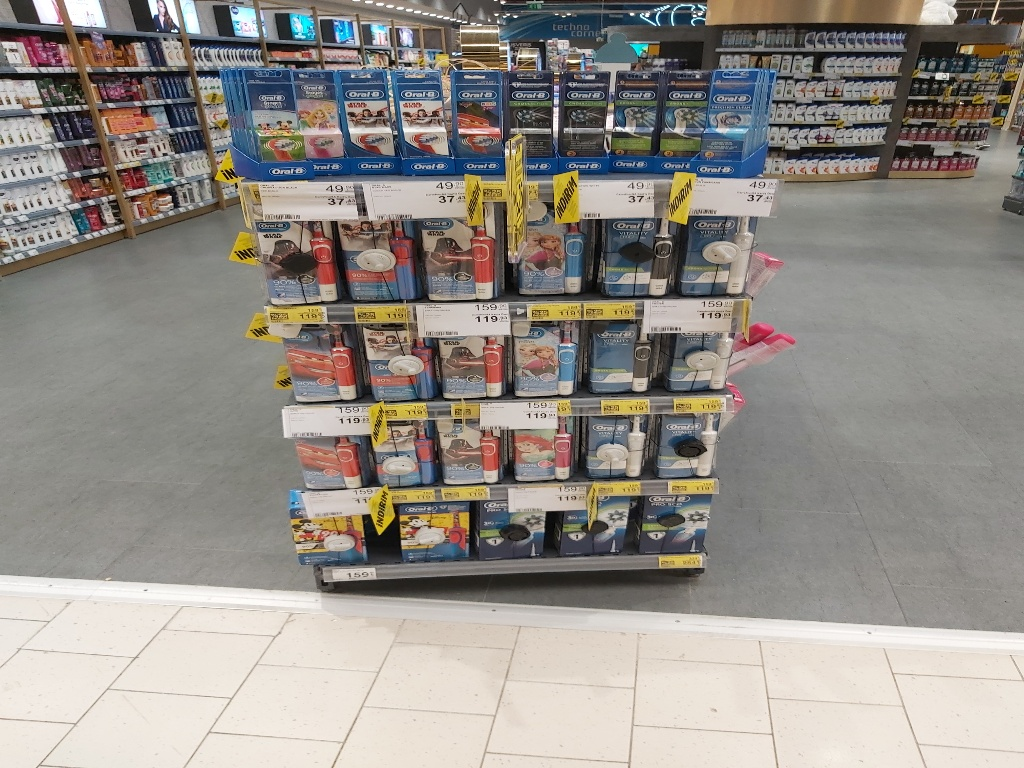urun: (504, 219, 588, 300), (417, 216, 500, 297), (590, 215, 673, 296), (677, 215, 760, 296), (261, 218, 339, 303), (338, 218, 416, 303), (279, 324, 358, 407), (361, 320, 435, 398), (435, 325, 509, 403), (508, 323, 582, 401), (584, 323, 658, 401), (663, 320, 737, 398), (582, 408, 652, 484), (438, 408, 507, 484), (650, 407, 719, 483), (631, 495, 712, 559), (365, 411, 434, 486), (511, 406, 580, 481), (284, 502, 371, 561), (385, 498, 472, 557), (470, 497, 550, 561), (552, 499, 632, 563), (291, 59, 339, 163), (396, 60, 444, 164), (557, 61, 605, 165), (607, 59, 655, 163), (707, 65, 755, 169), (342, 63, 390, 166), (456, 63, 504, 166), (502, 63, 550, 166), (653, 58, 701, 161), (296, 420, 364, 492)
urun2: (244, 63, 293, 166)
